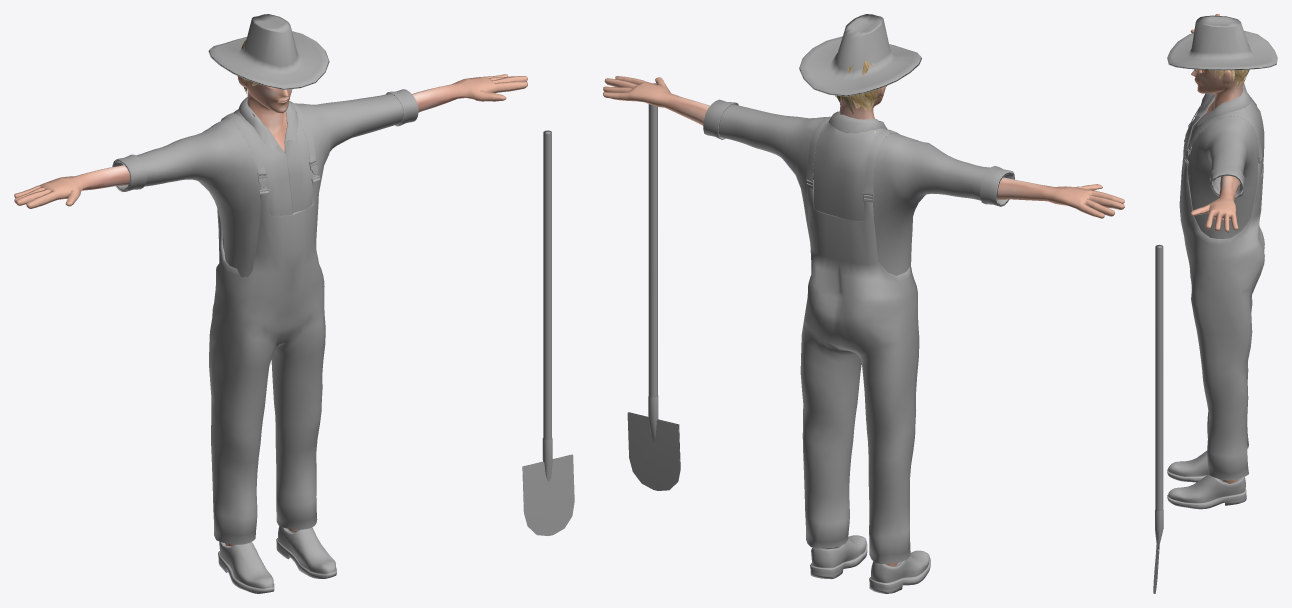
Rendered from Gardner_Avatar_Mdl.fbx.
The picture shows the model from 3 angles, left to right: view 1: azimuth 30°, elevation 25°; view 2: azimuth 150°, elevation 25°; view 3: azimuth 270°, elevation 25°; orthographic projection. The views are drawn at different scales.
Parts seen in each view (by area): view 1: pant, shirt, gardner_stick, cowboy:pCylinder19, body, cowboy:l_shoe_geo, cowboy:l_shoe_geo1, face; view 2: pant, shirt, gardner_stick, cowboy:pCylinder19, body, cowboy:l_shoe_geo1, cowboy:l_shoe_geo; view 3: pant, shirt, cowboy:pCylinder19, gardner_stick, cowboy:l_shoe_geo, body, face, cowboy:l_shoe_geo1, cowboy:hair_geo.
Boxes of the visible parts, x1,y1,x2,y2 form: pant: (209,178,325,544); shirt: (112,89,418,277); gardner_stick: (522,130,574,535); cowboy:pCylinder19: (208,14,329,89); body: (14,74,527,545); cowboy:l_shoe_geo: (276,526,336,578); cowboy:l_shoe_geo1: (218,541,274,593); face: (237,76,292,144); pant: (800,186,919,564); shirt: (703,99,1014,275); gardner_stick: (627,83,680,490); cowboy:pCylinder19: (799,14,921,96); body: (603,76,1124,566); cowboy:l_shoe_geo1: (869,550,930,593); cowboy:l_shoe_geo: (810,535,867,579); pant: (1179,140,1264,480); shirt: (1182,82,1264,238); cowboy:pCylinder19: (1167,15,1277,70); gardner_stick: (1153,244,1163,593); cowboy:l_shoe_geo: (1167,474,1246,509); body: (1188,14,1240,483); face: (1191,69,1242,113); cowboy:l_shoe_geo1: (1167,450,1208,482); cowboy:hair_geo: (1194,44,1249,87).
Size of the model in its own units: 186 by 186 by 44.6.
